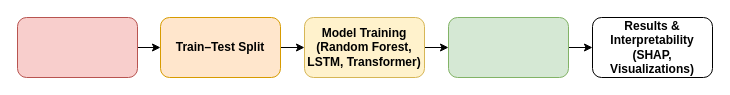
This 730x95 diagram has some shape labels left out. Each missing label, with the box of its shape:
Model Evaluation (MAE, RMSE, R²): (448, 16, 568, 78)
Preprocessed Input Data: (16, 16, 138, 78)
